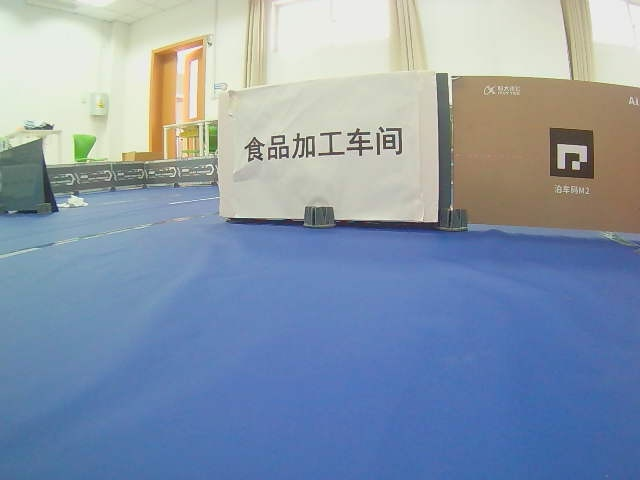target: (242, 124, 406, 164)
